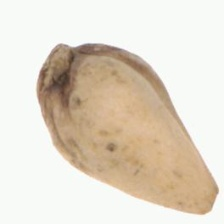L1: (36, 42, 81, 81), (198, 184, 220, 215)
L2: (36, 42, 219, 215)
